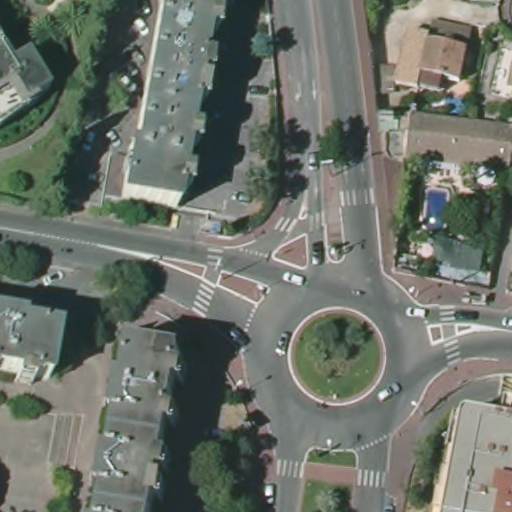pool: (425, 184, 451, 232)
